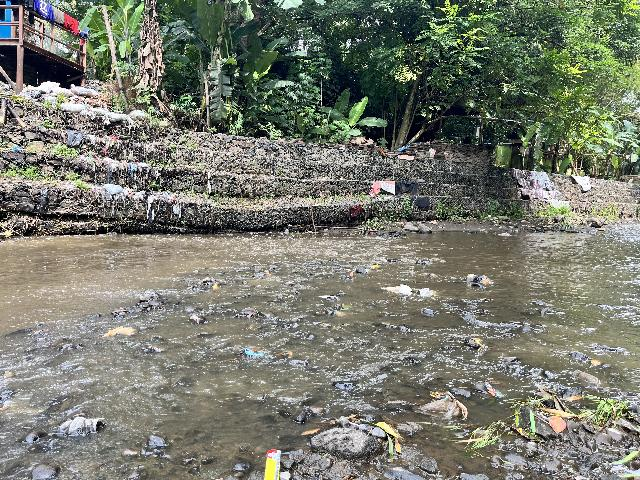Sampah Anorganik: (420, 392, 470, 420), (263, 449, 280, 480), (464, 270, 493, 287), (481, 380, 502, 398), (240, 346, 265, 358), (317, 295, 340, 302), (368, 264, 380, 269)
Sampah Organik: (293, 412, 407, 456), (509, 390, 631, 431), (0, 399, 37, 420), (381, 284, 411, 295), (101, 327, 136, 336), (331, 304, 352, 317), (418, 287, 436, 297), (276, 350, 294, 359), (587, 358, 603, 368), (470, 337, 483, 347), (109, 307, 125, 315), (247, 311, 263, 318), (211, 283, 219, 290), (348, 270, 354, 277), (284, 281, 294, 284)
